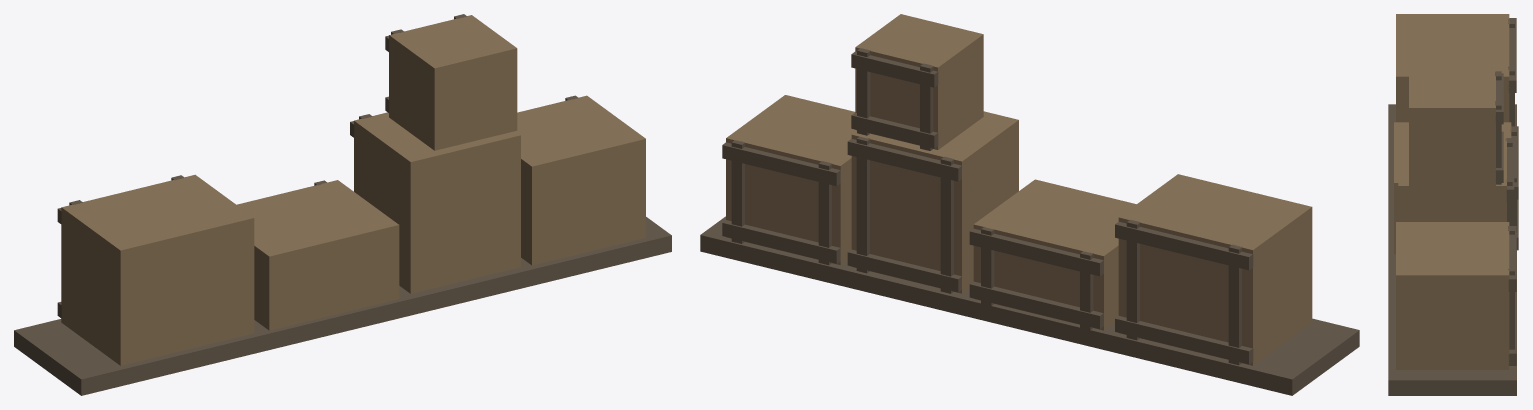
File: Dungeon_SupplyCache.fbx
The picture shows the model from 3 angles, left to right: view 1: azimuth 30°, elevation 25°; view 2: azimuth 150°, elevation 25°; view 3: azimuth 270°, elevation 25°; orthographic projection. The views are drawn at different scales.
Parts seen in each view (by area): view 1: Dungeon_SupplyCache; view 2: Dungeon_SupplyCache; view 3: Dungeon_SupplyCache.
Boxes of the visible parts, <box> form: Dungeon_SupplyCache: <box>14,14,671,395</box>; Dungeon_SupplyCache: <box>700,14,1359,395</box>; Dungeon_SupplyCache: <box>1388,14,1518,395</box>.
Size of the model in its own units: 7.5 by 2.8 by 1.5.
